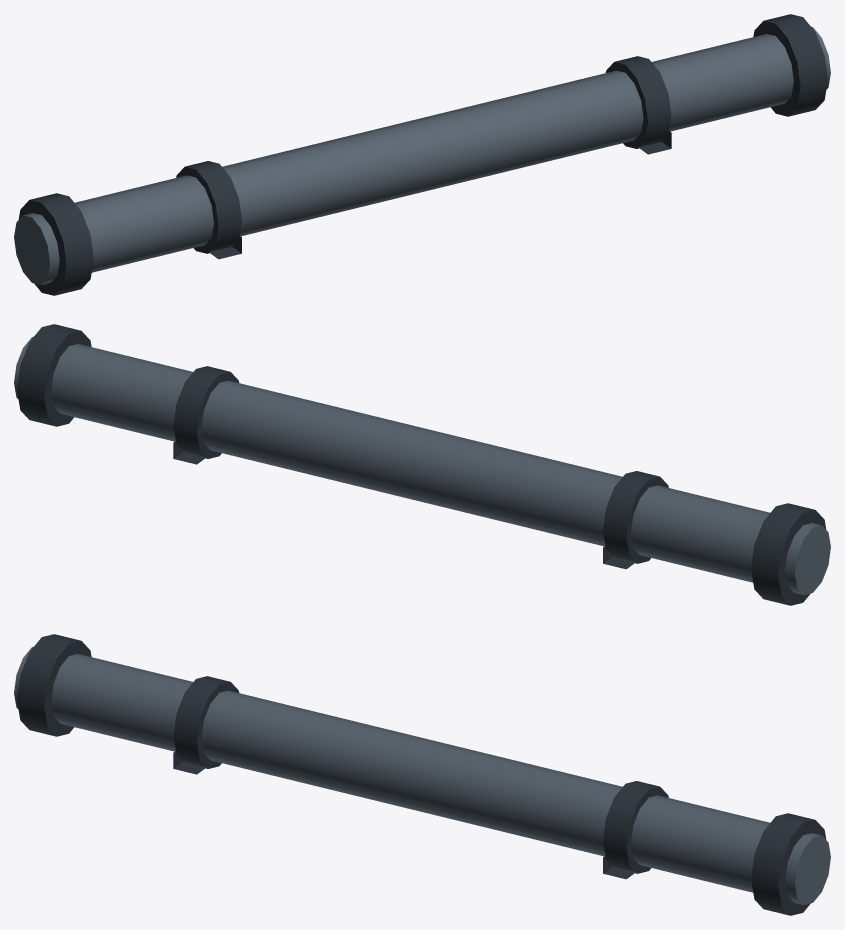
Rendered from mesh_pipe.glb.
3 renders of one model, top to bottom at view 1: azimuth 30°, elevation 25°; view 2: azimuth 150°, elevation 25°; view 3: azimuth 330°, elevation 25°, orthographic.
Visible parts, largest first — view 1: mesh_pipe; view 2: mesh_pipe; view 3: mesh_pipe.
Boxes of the visible parts, x1,y1,x2,y2 form: mesh_pipe: (14, 14, 830, 295); mesh_pipe: (14, 324, 830, 605); mesh_pipe: (14, 634, 830, 915).
Size of the model in its own units: 2 by 0.22 by 0.22.
